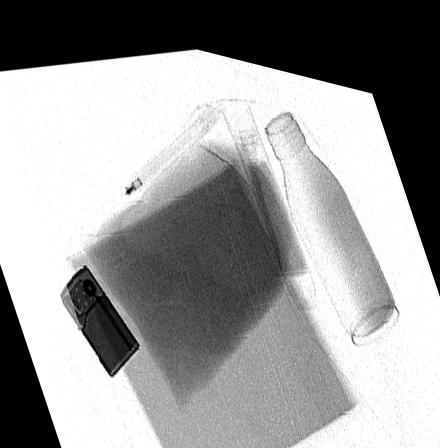Lighter: (58, 260, 141, 372)
